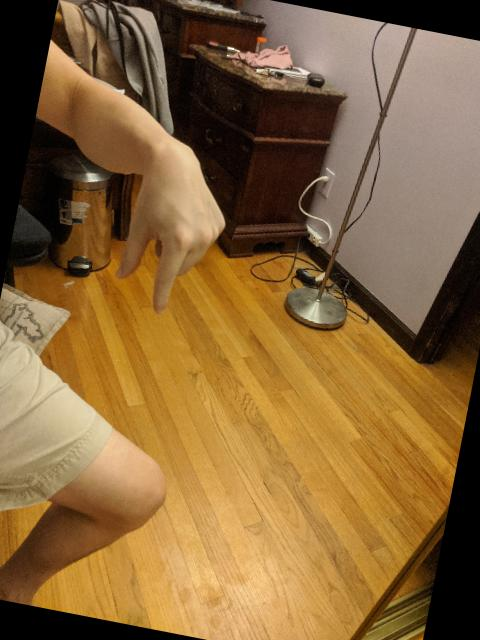Q: (106, 138, 242, 330)
